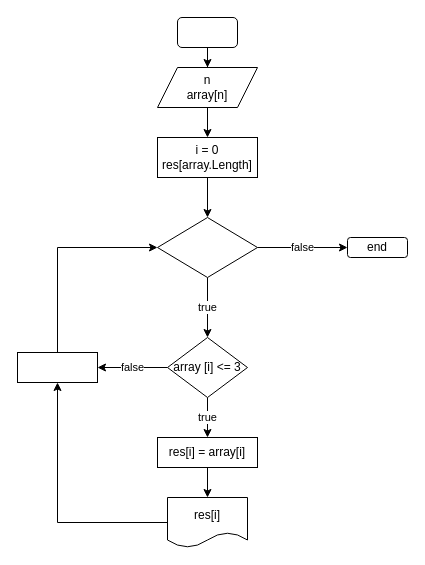
This 425x565 diagram has some shape labels left out. Here are the shapes that lost their labels. From the top down, the centre of each, then its label:
At [207,32]: "start".
At [207,247]: "i < array.Length".
At [57,367]: "i++".
